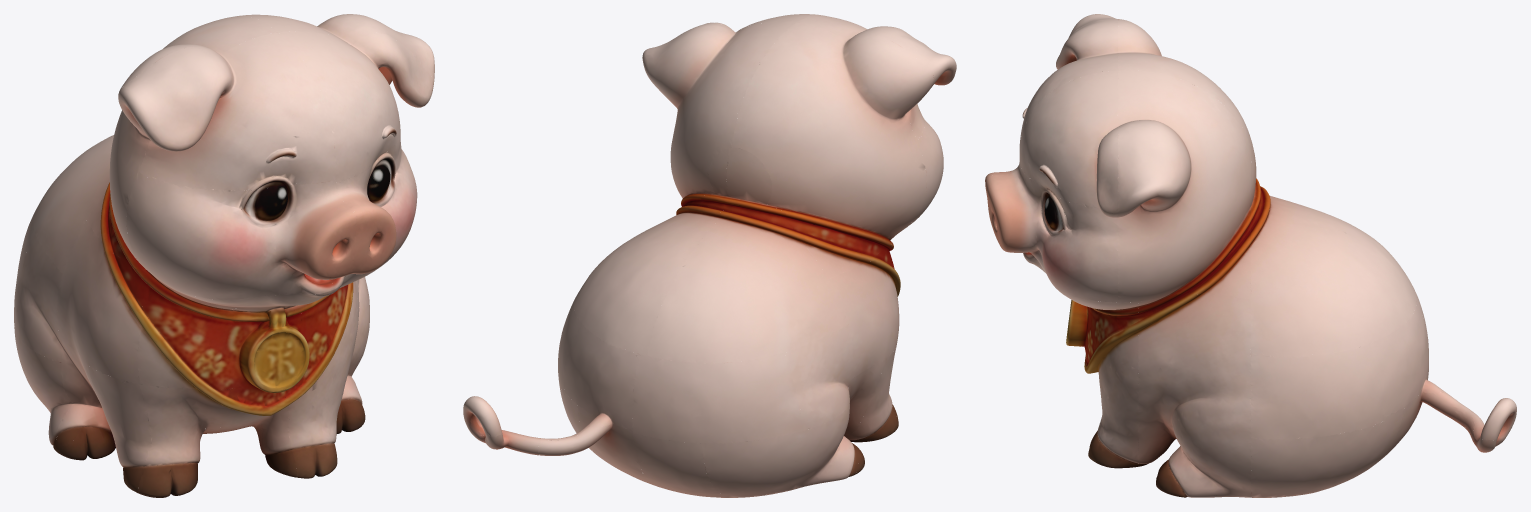
The model's file is hi3d-zodiac-pig-web.glb.
The picture shows the model from 3 angles, left to right: view 1: azimuth 30°, elevation 25°; view 2: azimuth 150°, elevation 25°; view 3: azimuth 270°, elevation 25°; orthographic projection. The views are drawn at different scales.
Parts seen in each view (by area): view 1: zodiac_pig_mesh_01; view 2: zodiac_pig_mesh_01; view 3: zodiac_pig_mesh_01.
Boxes of the visible parts, x1,y1,x2,y2 form: zodiac_pig_mesh_01: (14,14,434,497); zodiac_pig_mesh_01: (463,14,956,497); zodiac_pig_mesh_01: (985,14,1516,497).
Bounding box in the file's own units: 0.6259 × 0.7962 × 1.
1 material, 1 textured.
